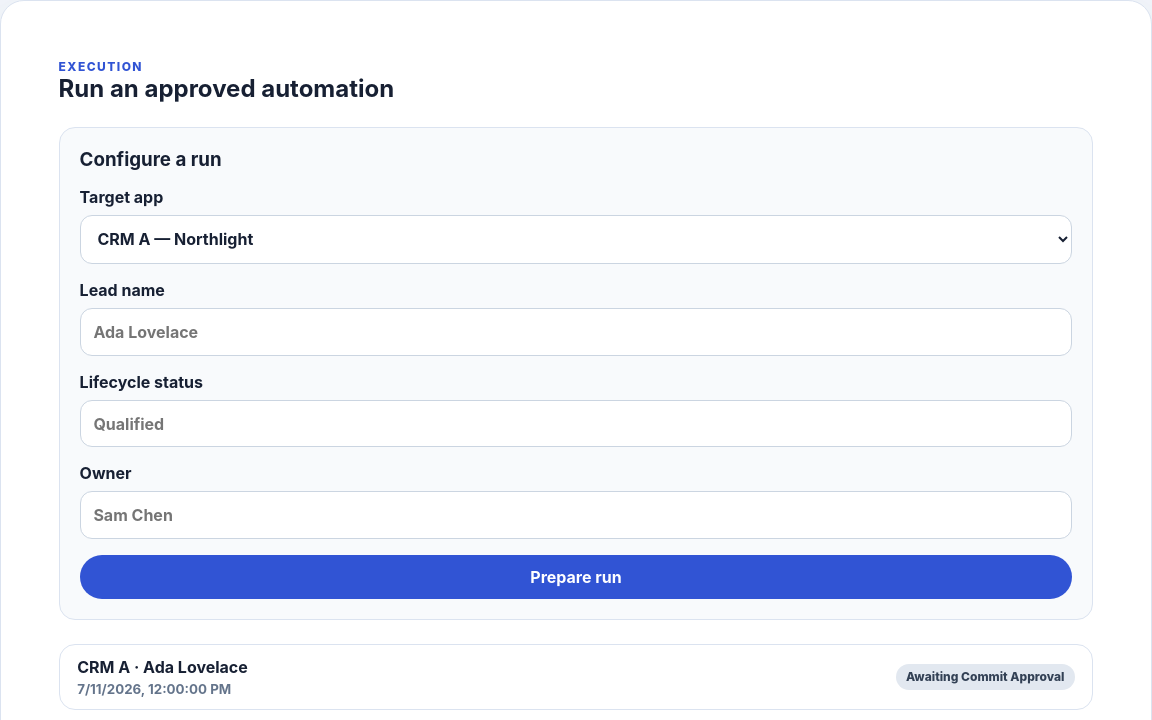
Test: ExecutionPage approval surface › renders the staged diff, verification quote, countdown, and count-labelled approve button
Click the button "Ada Lovelace": (104, 667) [59, 644, 1093, 710]
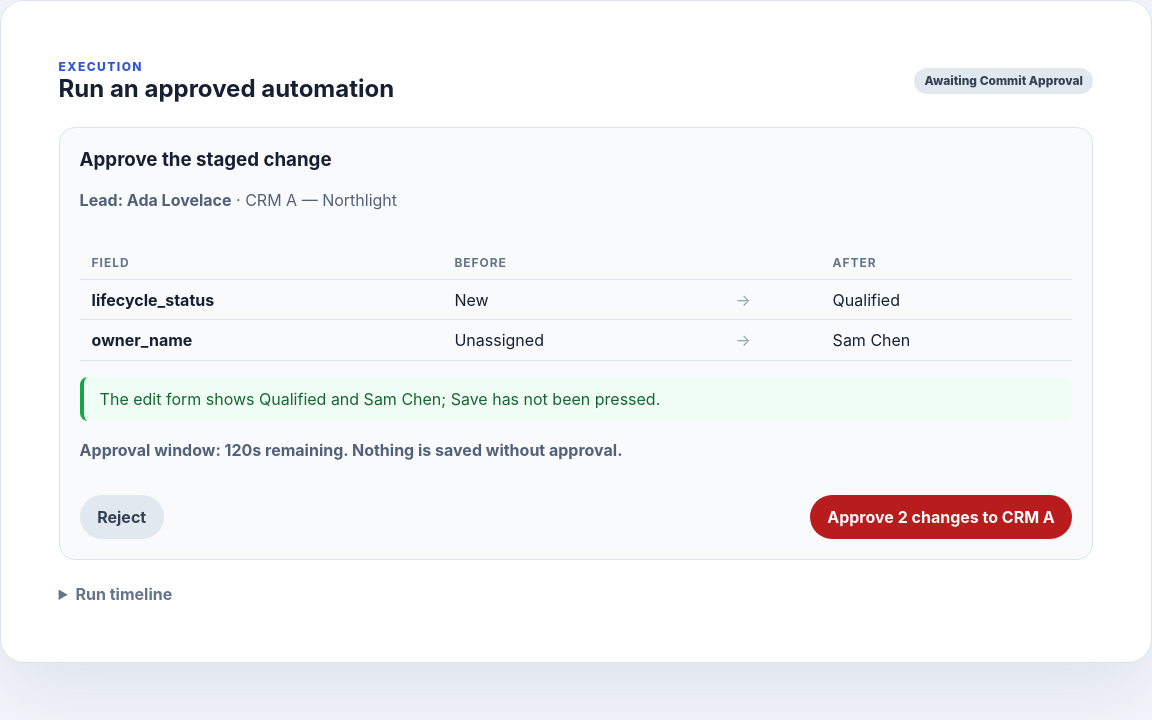
Expected: the heading "Approve the staged change" is shown, [80, 148, 332, 171]
Expected: the button "Approve 2 changes to CRM A" is enabled, [810, 495, 1072, 539]
Expected: the button "Reject" is enabled, [80, 495, 164, 539]
